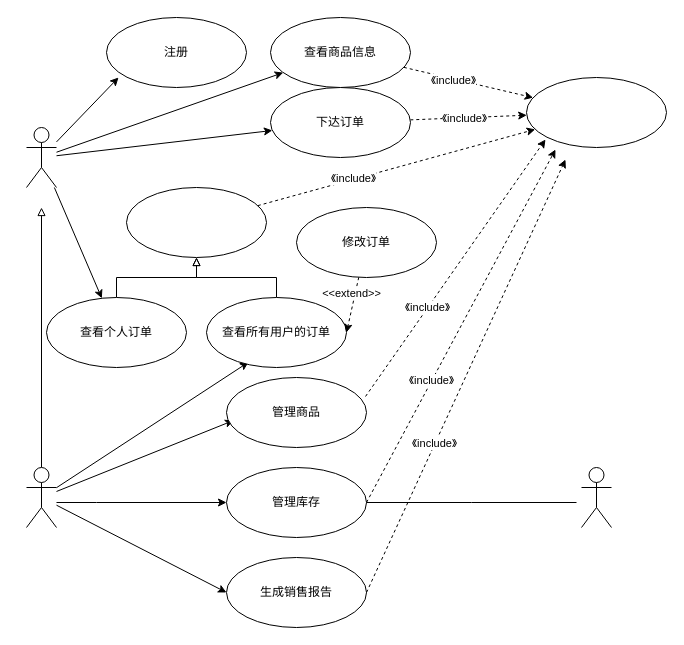
This 684x645 diagram has some shape labels left out. Here are the shapes that lost their labels. From the top down, the centre of each, then its label:
At point (596, 112): "登录".
At point (41, 157): "一般用户".
At point (196, 222): "查看订单".
At point (41, 497): "管理员".
At point (596, 497): "供货商".
